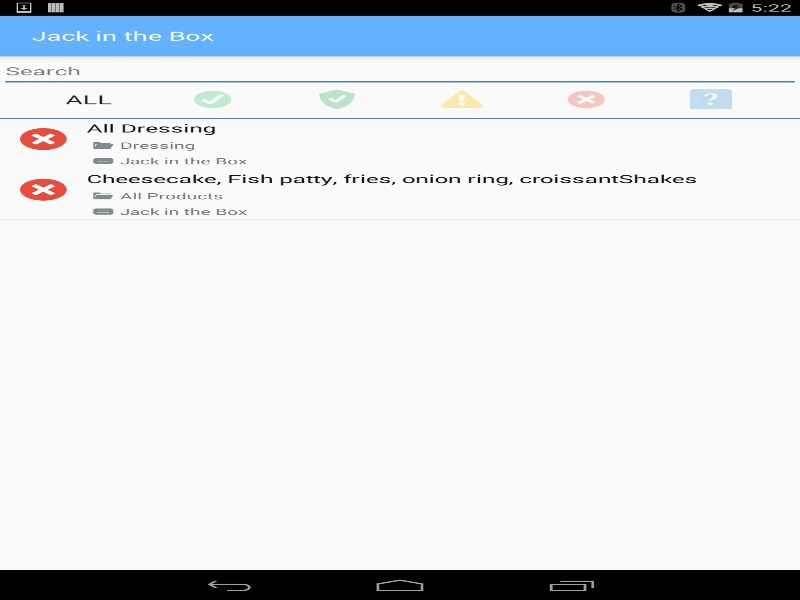Button: (276, 87, 398, 111), (400, 87, 522, 111), (525, 87, 647, 111), (650, 87, 772, 111), (28, 87, 149, 111), (152, 87, 273, 111)
Input: (0, 55, 800, 86)
